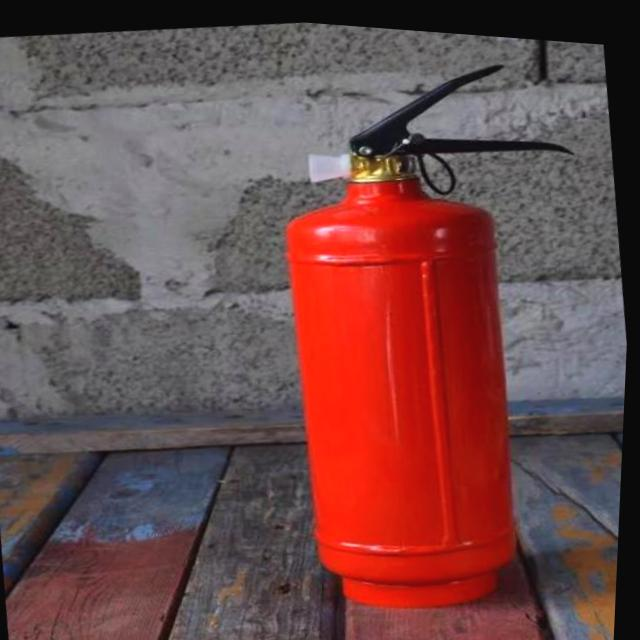FireExtinguisher: (245, 30, 639, 628)
